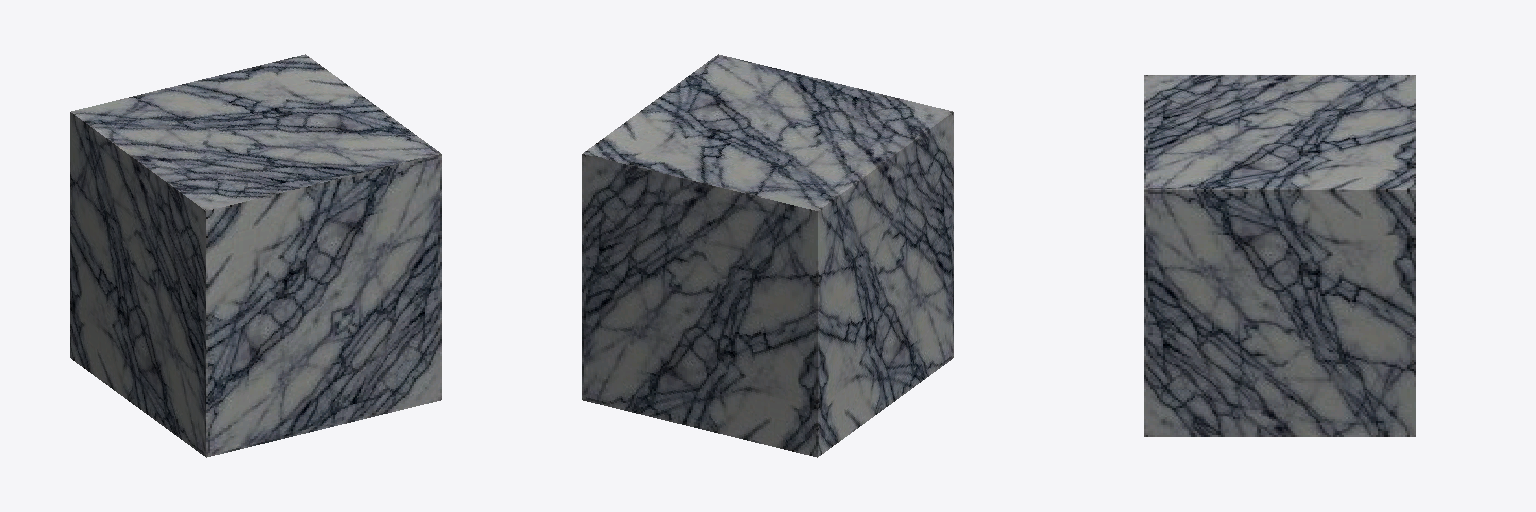
3 views of the same model, side by side, from view 1: azimuth 30°, elevation 25°; view 2: azimuth 150°, elevation 25°; view 3: azimuth 270°, elevation 25° (orthographic).
Size of the model in its own units: 6 by 6 by 6.
Materials: 1 (1 with a texture image).